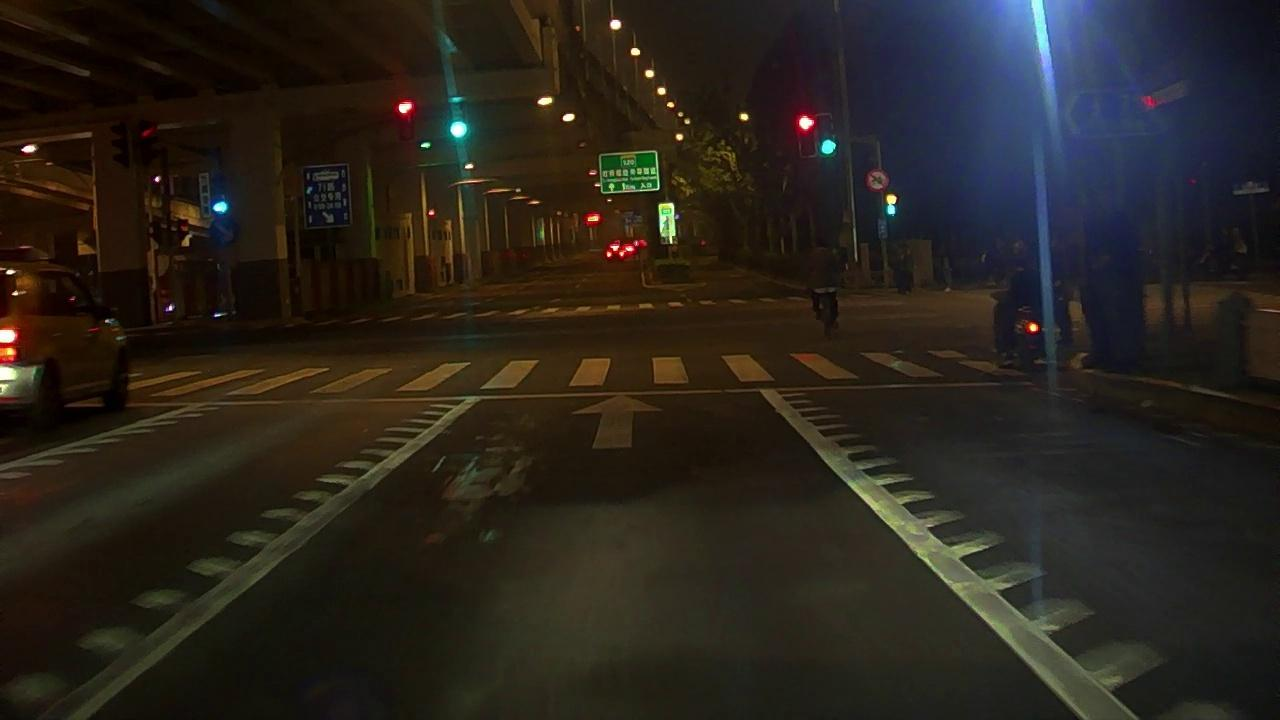traffic_light: (817, 115, 835, 158), (798, 116, 814, 158), (450, 104, 467, 143), (398, 101, 414, 141)
